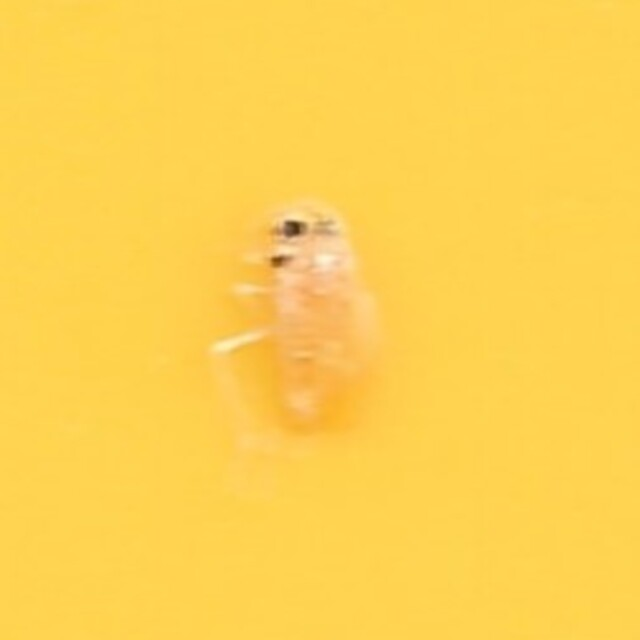Hemiptera: (256, 198, 384, 442)
